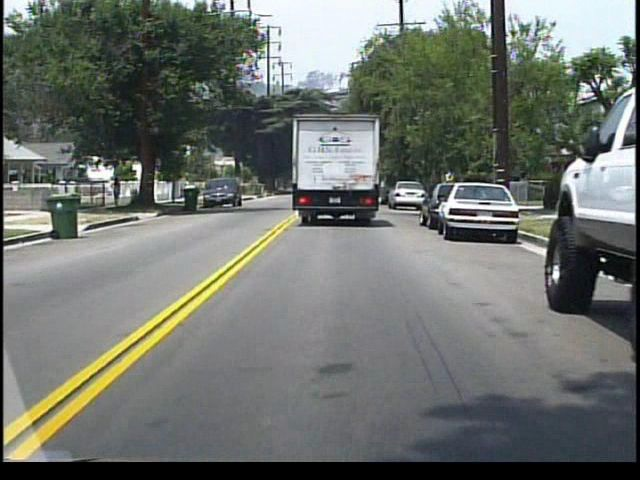person: (112, 176, 124, 208)
